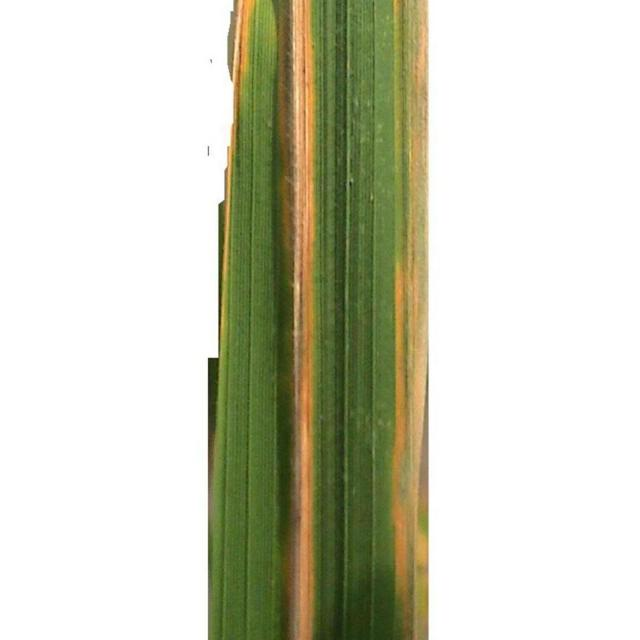Bacterial leaf blight: (270, 1, 323, 640), (391, 1, 429, 640), (216, 0, 253, 92)
